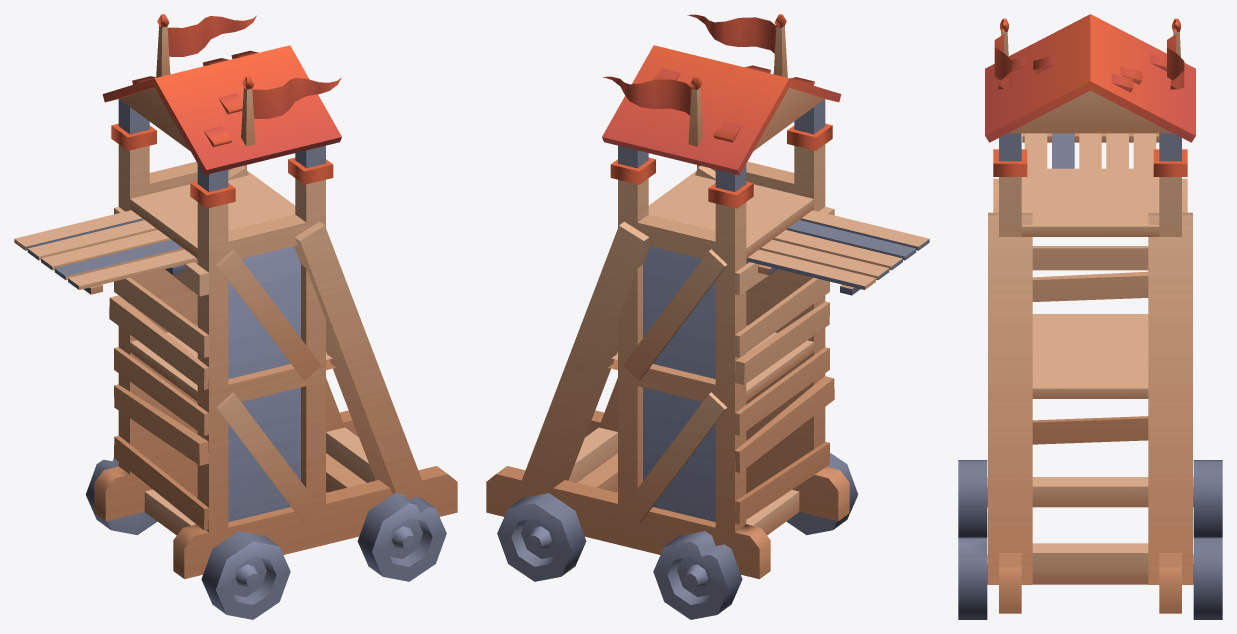
Rendered from siege-tower.fbx.
3 renders of one model, left to right at view 1: azimuth 30°, elevation 25°; view 2: azimuth 150°, elevation 25°; view 3: azimuth 270°, elevation 25°, orthographic.
Visible parts, largest first — view 1: siege-tower, wheel.020, wheel.019, wheel.018; view 2: siege-tower, wheel.017, wheel.018, wheel.020; view 3: siege-tower, wheel.017, wheel.019, wheel.018, wheel.020.
Boxes of the visible parts, <box> form: siege-tower: <box>14,14,457,579</box>; wheel.020: <box>201,531,290,619</box>; wheel.019: <box>357,493,446,581</box>; wheel.018: <box>85,458,157,535</box>; siege-tower: <box>486,14,929,579</box>; wheel.017: <box>497,493,586,581</box>; wheel.018: <box>653,531,742,619</box>; wheel.020: <box>786,453,858,535</box>; siege-tower: <box>985,14,1195,613</box>; wheel.017: <box>1193,537,1222,619</box>; wheel.019: <box>958,537,987,619</box>; wheel.018: <box>1193,460,1222,537</box>; wheel.020: <box>958,460,987,537</box>.
Bounding box in the file's own units: 1.97 × 1.21 × 2.68.
